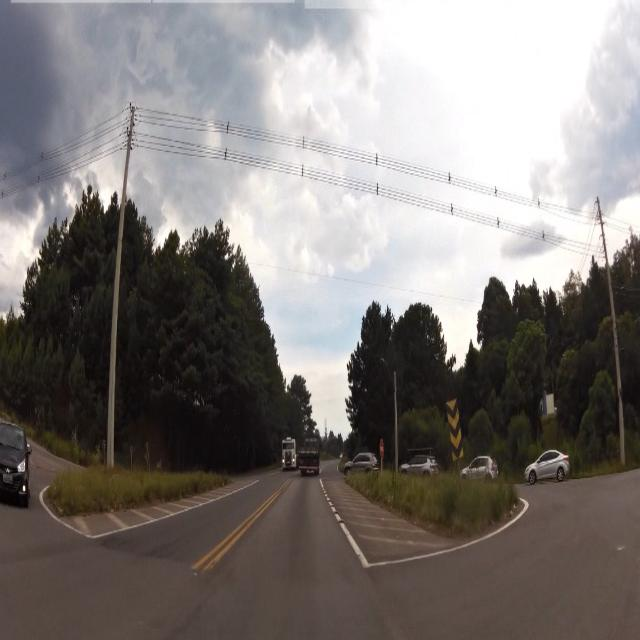MP: (445, 399, 466, 466)
